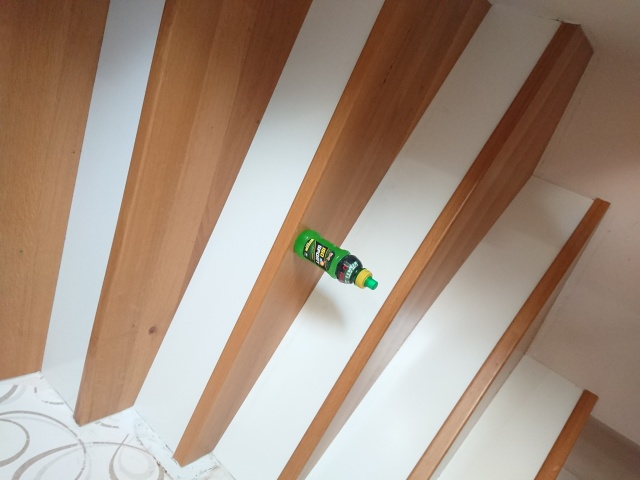Vindi Iso Sport Lemon-Grapefruit 500mL: (290, 228, 380, 292)
